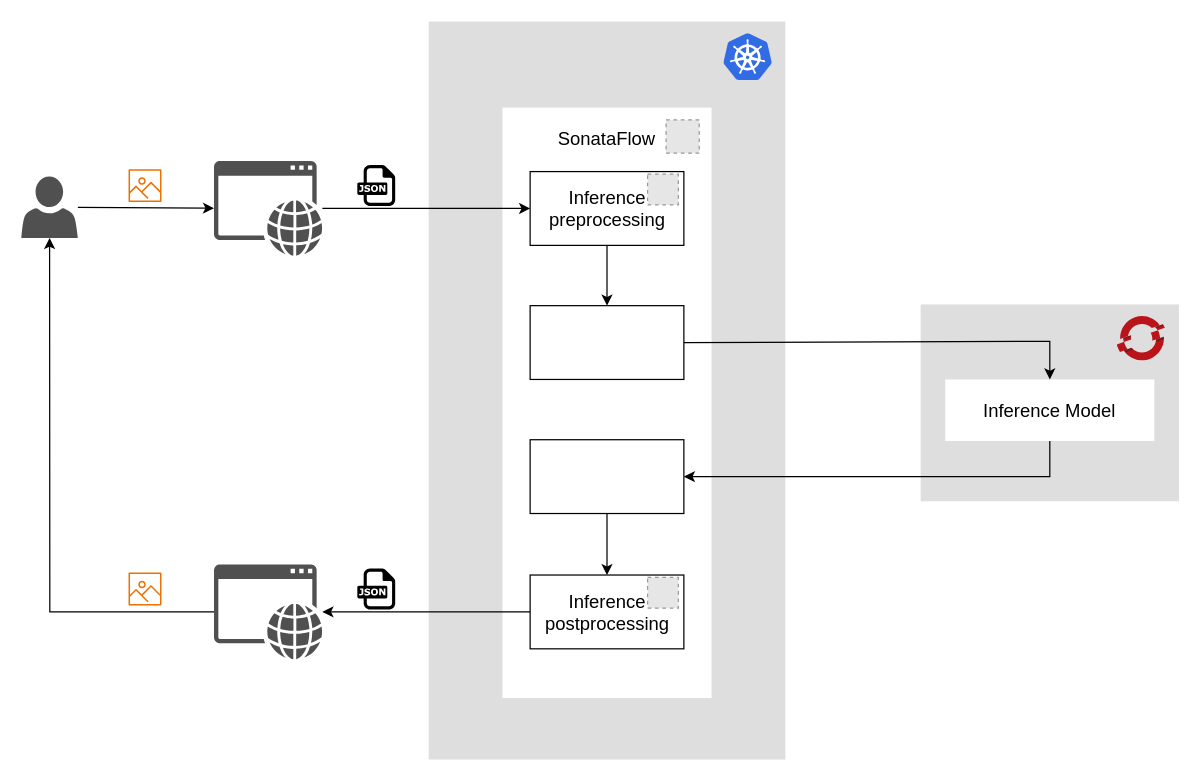
This 1200x780 diagram has some shape labels left out. Grey dashed boxes stand in for pictures. The shapes that lost their labels are listed below. From the top down, each one's centre as x and y in pixels, then its label:
pixel 606 341: Inference
pixel 606 476: Inference response handling
